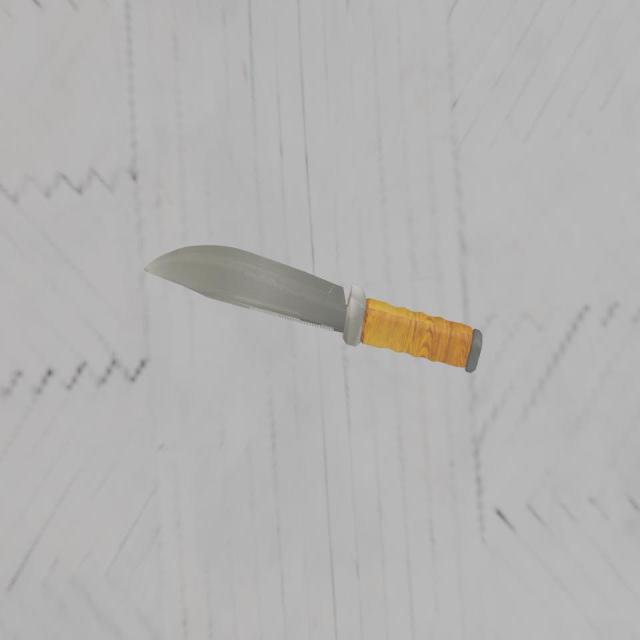knife: (345, 307, 479, 373)
